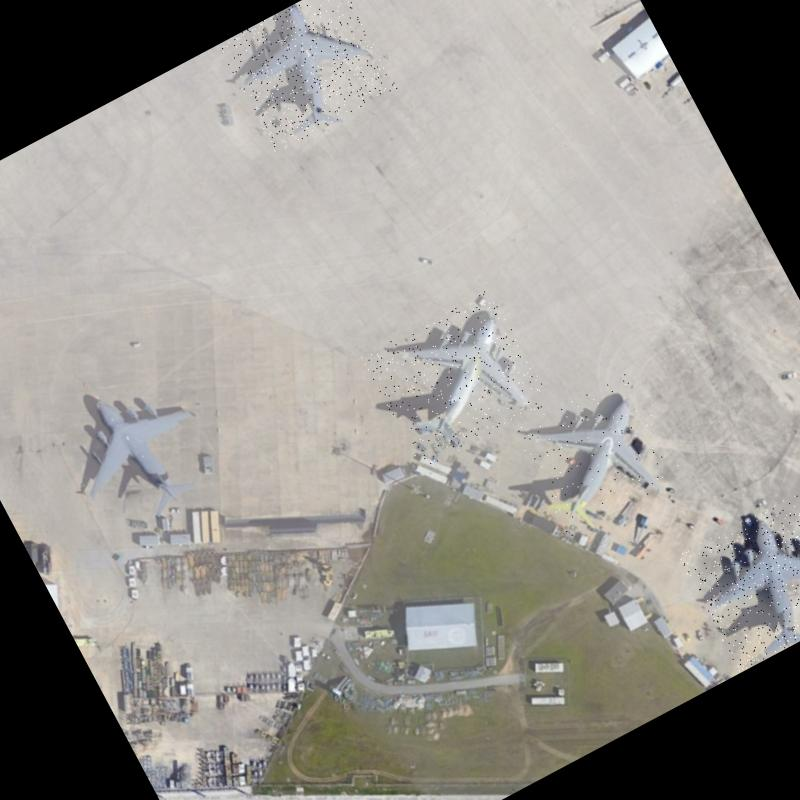A3: (38, 336, 244, 549), (361, 287, 551, 470), (512, 368, 685, 538), (217, 0, 397, 152), (677, 486, 800, 671)
